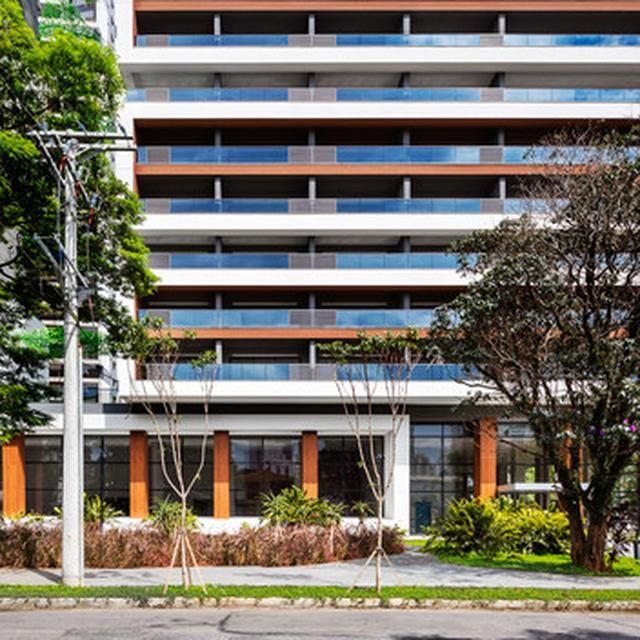building: (55, 0, 639, 539)
